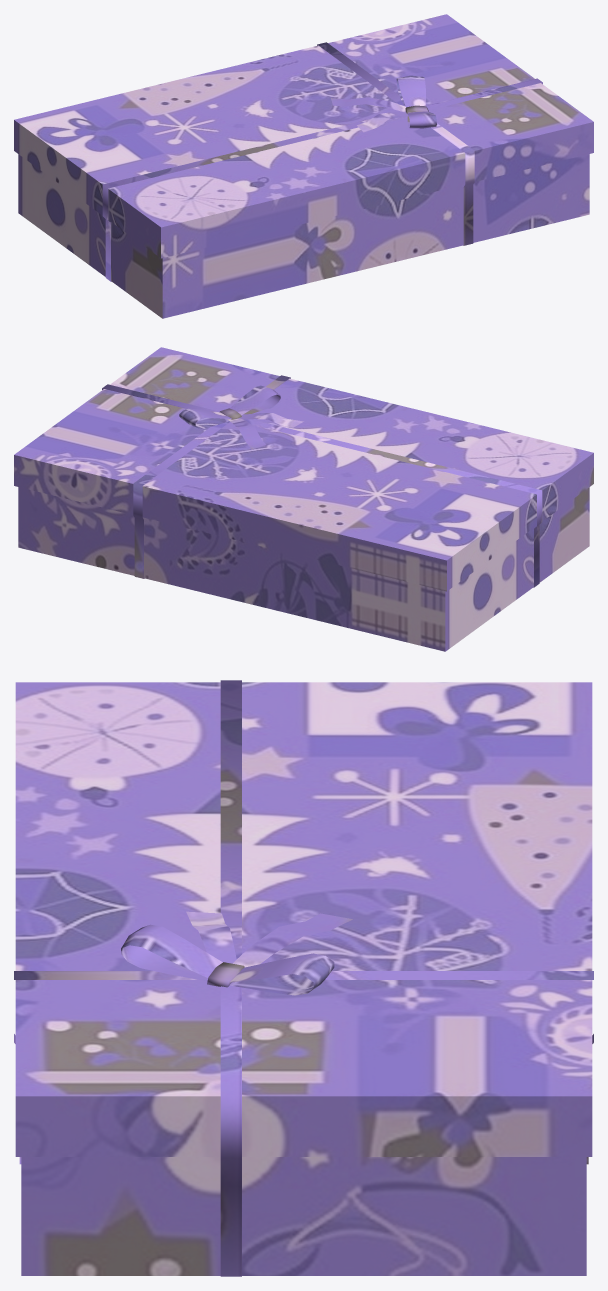
File: present 07.fbx
3 views of the same model, one above another, from view 1: azimuth 30°, elevation 25°; view 2: azimuth 150°, elevation 25°; view 3: azimuth 270°, elevation 25° (orthographic). The views are drawn at different scales.
Visible parts, largest first — view 1: present 07; view 2: present 07; view 3: present 07.
Part boxes in pixels (<box>): present 07: <box>14,14,593,318</box>; present 07: <box>14,347,593,651</box>; present 07: <box>14,680,593,1276</box>.
Bounding box in the file's own units: 2.01 × 0.4816 × 1.18.
